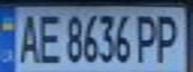3: (97, 11, 118, 64)
6: (112, 10, 136, 63), (81, 11, 100, 64)
8: (60, 11, 84, 64)
A: (12, 9, 42, 65)
E: (33, 10, 63, 65)
P: (151, 11, 187, 64), (133, 10, 163, 64)
